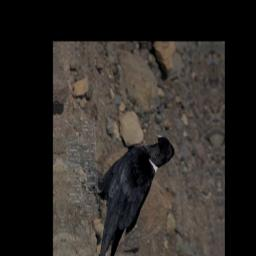Crow: (75, 130, 181, 256)
